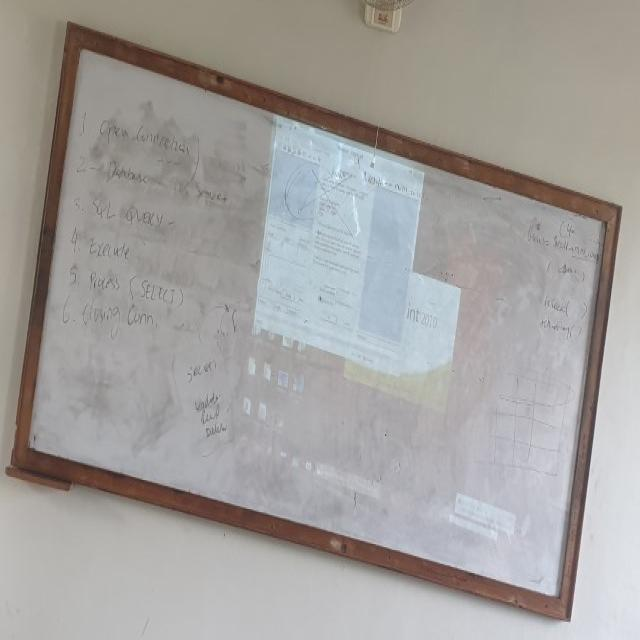Slide: (231, 101, 582, 558)
White-board: (14, 34, 617, 619)
